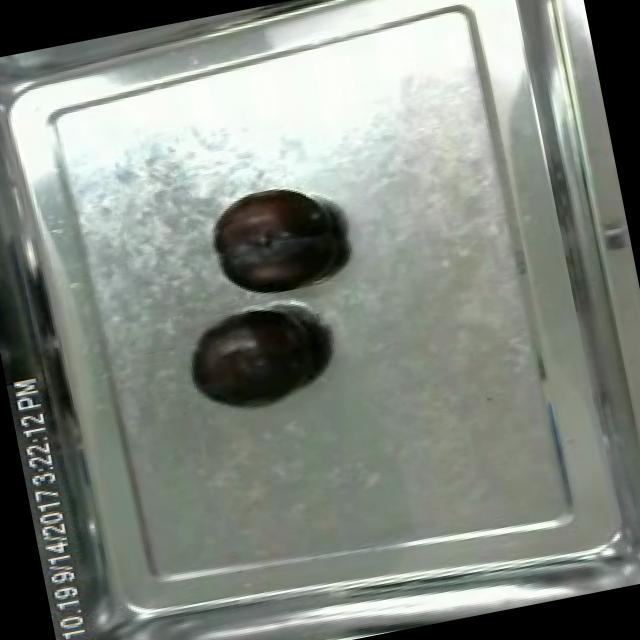Fruit: (177, 296, 336, 424), (201, 175, 355, 306)
